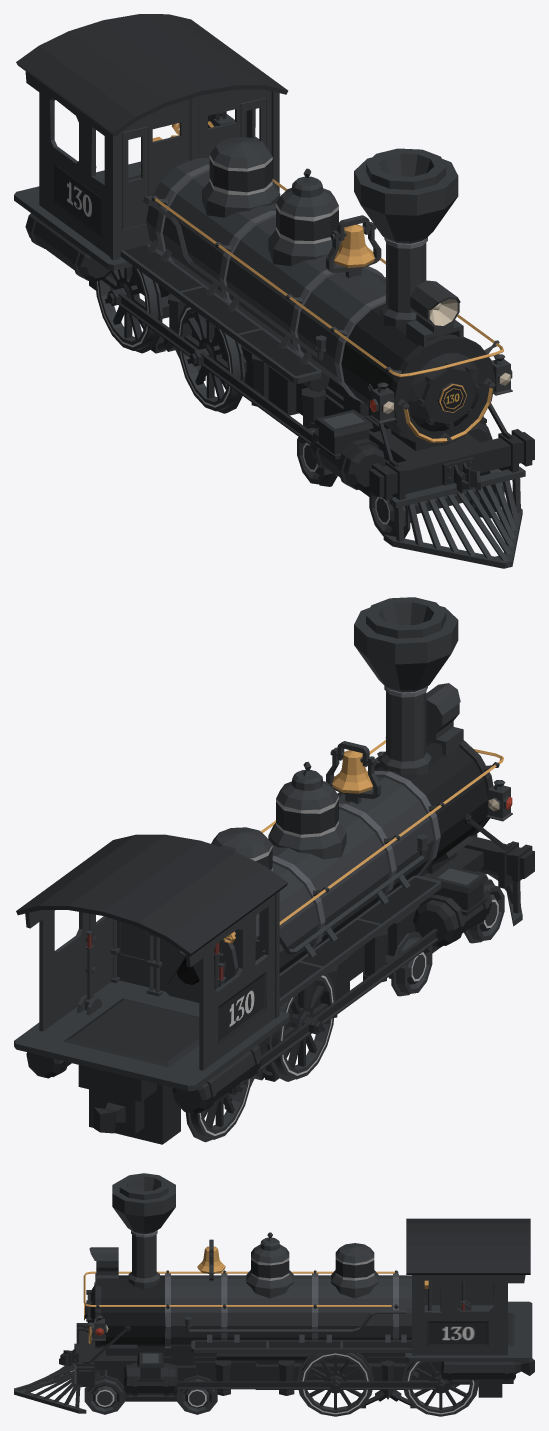
Rendered from SM_Veh_Train_01.fbx.
3 renders of one model, top to bottom at view 1: azimuth 30°, elevation 25°; view 2: azimuth 150°, elevation 25°; view 3: azimuth 270°, elevation 25°, orthographic. The views are drawn at different scales.
Visible parts, largest first — view 1: SM_Veh_Train_01, SM_Veh_Train_01_Alt_Smokestack, SM_Veh_Train_01_Bell; view 2: SM_Veh_Train_01, SM_Veh_Train_01_Alt_Smokestack, SM_Veh_Train_01_Bell; view 3: SM_Veh_Train_01, SM_Veh_Train_01_Alt_Smokestack, SM_Veh_Train_01_Bell.
Part boxes in pixels (<box>): SM_Veh_Train_01: <box>14,14,534,568</box>; SM_Veh_Train_01_Alt_Smokestack: <box>354,148,458,243</box>; SM_Veh_Train_01_Bell: <box>334,224,374,267</box>; SM_Veh_Train_01: <box>14,683,534,1144</box>; SM_Veh_Train_01_Alt_Smokestack: <box>354,597,458,692</box>; SM_Veh_Train_01_Bell: <box>332,750,372,793</box>; SM_Veh_Train_01: <box>14,1218,534,1416</box>; SM_Veh_Train_01_Alt_Smokestack: <box>112,1173,175,1234</box>; SM_Veh_Train_01_Bell: <box>197,1246,225,1273</box>.
Size of the model in its own units: 328 by 580 by 1249.
